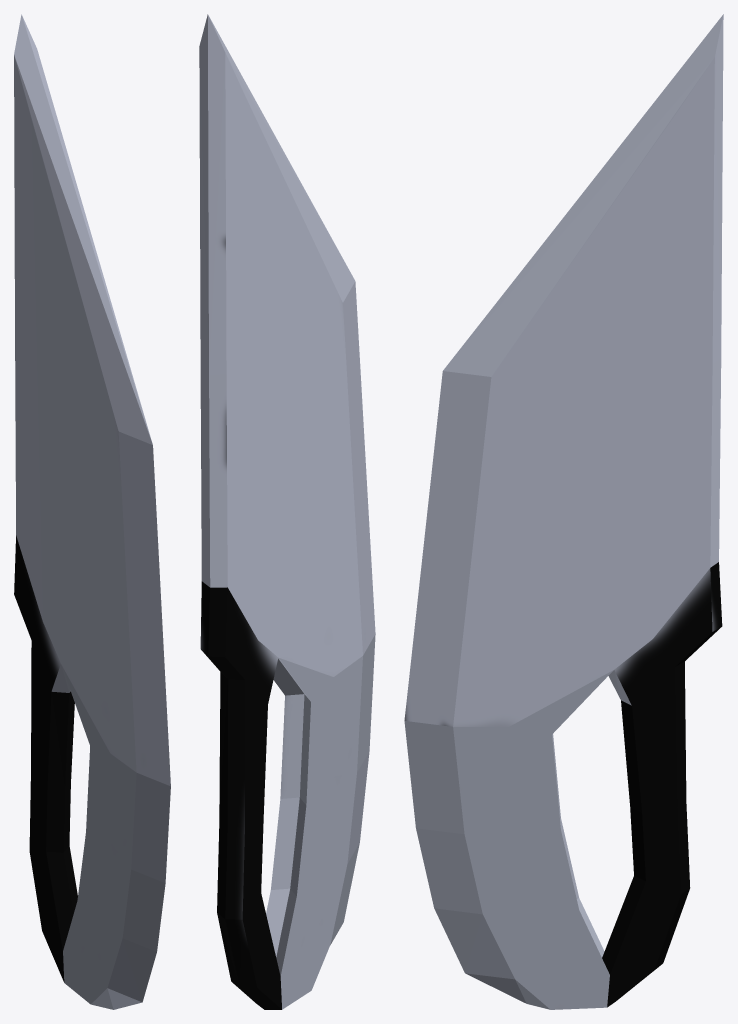
Rendered from weapon.obj.
3 views of the same model, side by side, from view 1: azimuth 30°, elevation 25°; view 2: azimuth 150°, elevation 25°; view 3: azimuth 270°, elevation 25° (orthographic). The views are drawn at different scales.
Parts seen in each view (by area): view 1: 立方体; view 2: 立方体; view 3: 立方体.
Part boxes in pixels (x1,y1,x2,y2): 立方体: [14, 14, 170, 1009]; 立方体: [199, 14, 375, 1009]; 立方体: [404, 14, 723, 1009].
Size of the model in its own units: 0.0628 by 2.36 by 0.689.
1 material, 1 textured.
